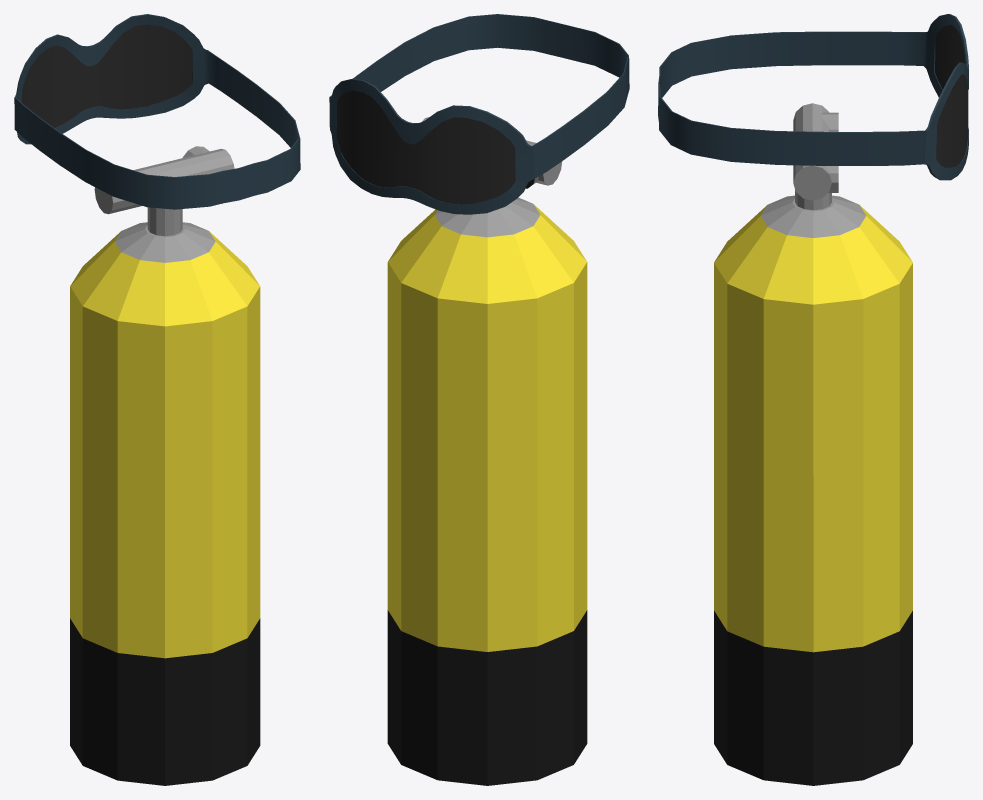
Rendered from scubaSet.glb.
The picture shows the model from 3 angles, left to right: view 1: azimuth 30°, elevation 25°; view 2: azimuth 150°, elevation 25°; view 3: azimuth 270°, elevation 25°; orthographic projection. The views are drawn at different scales.
Visible parts, largest first — view 1: scubaSet:Node, glasses25.001; view 2: scubaSet:Node, glasses25.001; view 3: scubaSet:Node, glasses25.001.
Part boxes in pixels (bbox=[...]): scubaSet:Node: bbox=[70, 146, 260, 785]; glasses25.001: bbox=[14, 14, 300, 209]; scubaSet:Node: bbox=[387, 117, 587, 785]; glasses25.001: bbox=[329, 14, 629, 214]; scubaSet:Node: bbox=[714, 103, 912, 785]; glasses25.001: bbox=[658, 14, 968, 180].
Bounding box in the file's own units: 0.3255 × 1.05 × 0.4215.
